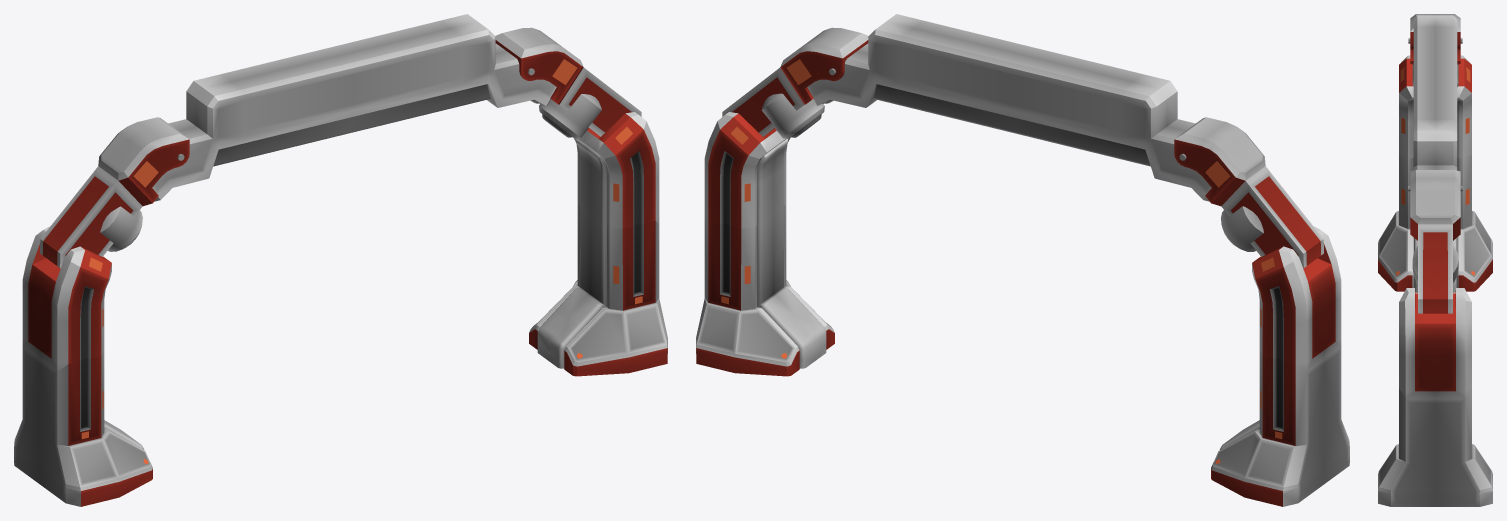
File: env_minidungeon_gatearch.fbx
3 views of the same model, side by side, from view 1: azimuth 30°, elevation 25°; view 2: azimuth 150°, elevation 25°; view 3: azimuth 270°, elevation 25° (orthographic). The views are drawn at different scales.
Parts seen in each view (by area): view 1: Cube.001, t_meshdecal_mechanic01; view 2: Cube.001, t_meshdecal_mechanic01; view 3: Cube.001, t_meshdecal_mechanic01.
Part boxes in pixels (x1,y1,x2,y2): Cube.001: [14, 14, 667, 506]; t_meshdecal_mechanic01: [81, 59, 642, 464]; Cube.001: [696, 14, 1349, 506]; t_meshdecal_mechanic01: [721, 59, 1282, 464]; Cube.001: [1378, 14, 1492, 506]; t_meshdecal_mechanic01: [1396, 67, 1474, 275].
Bounding box in the file's own units: 156 × 88.28 × 29.9.
